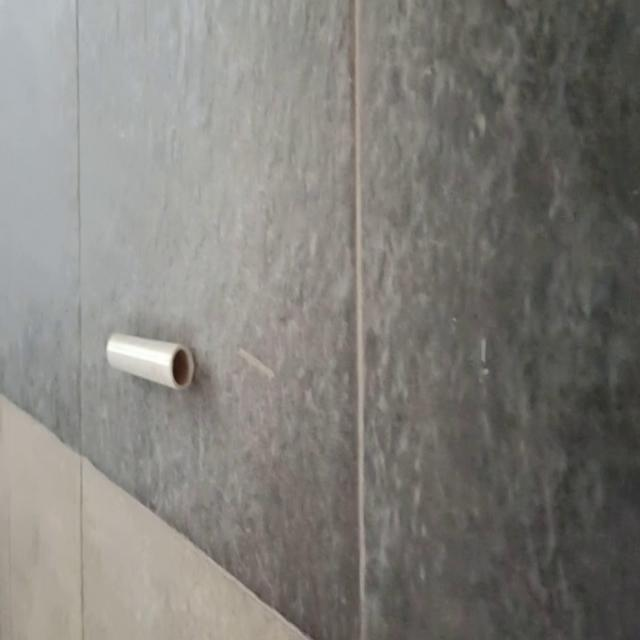Cube: (106, 331, 194, 392)
